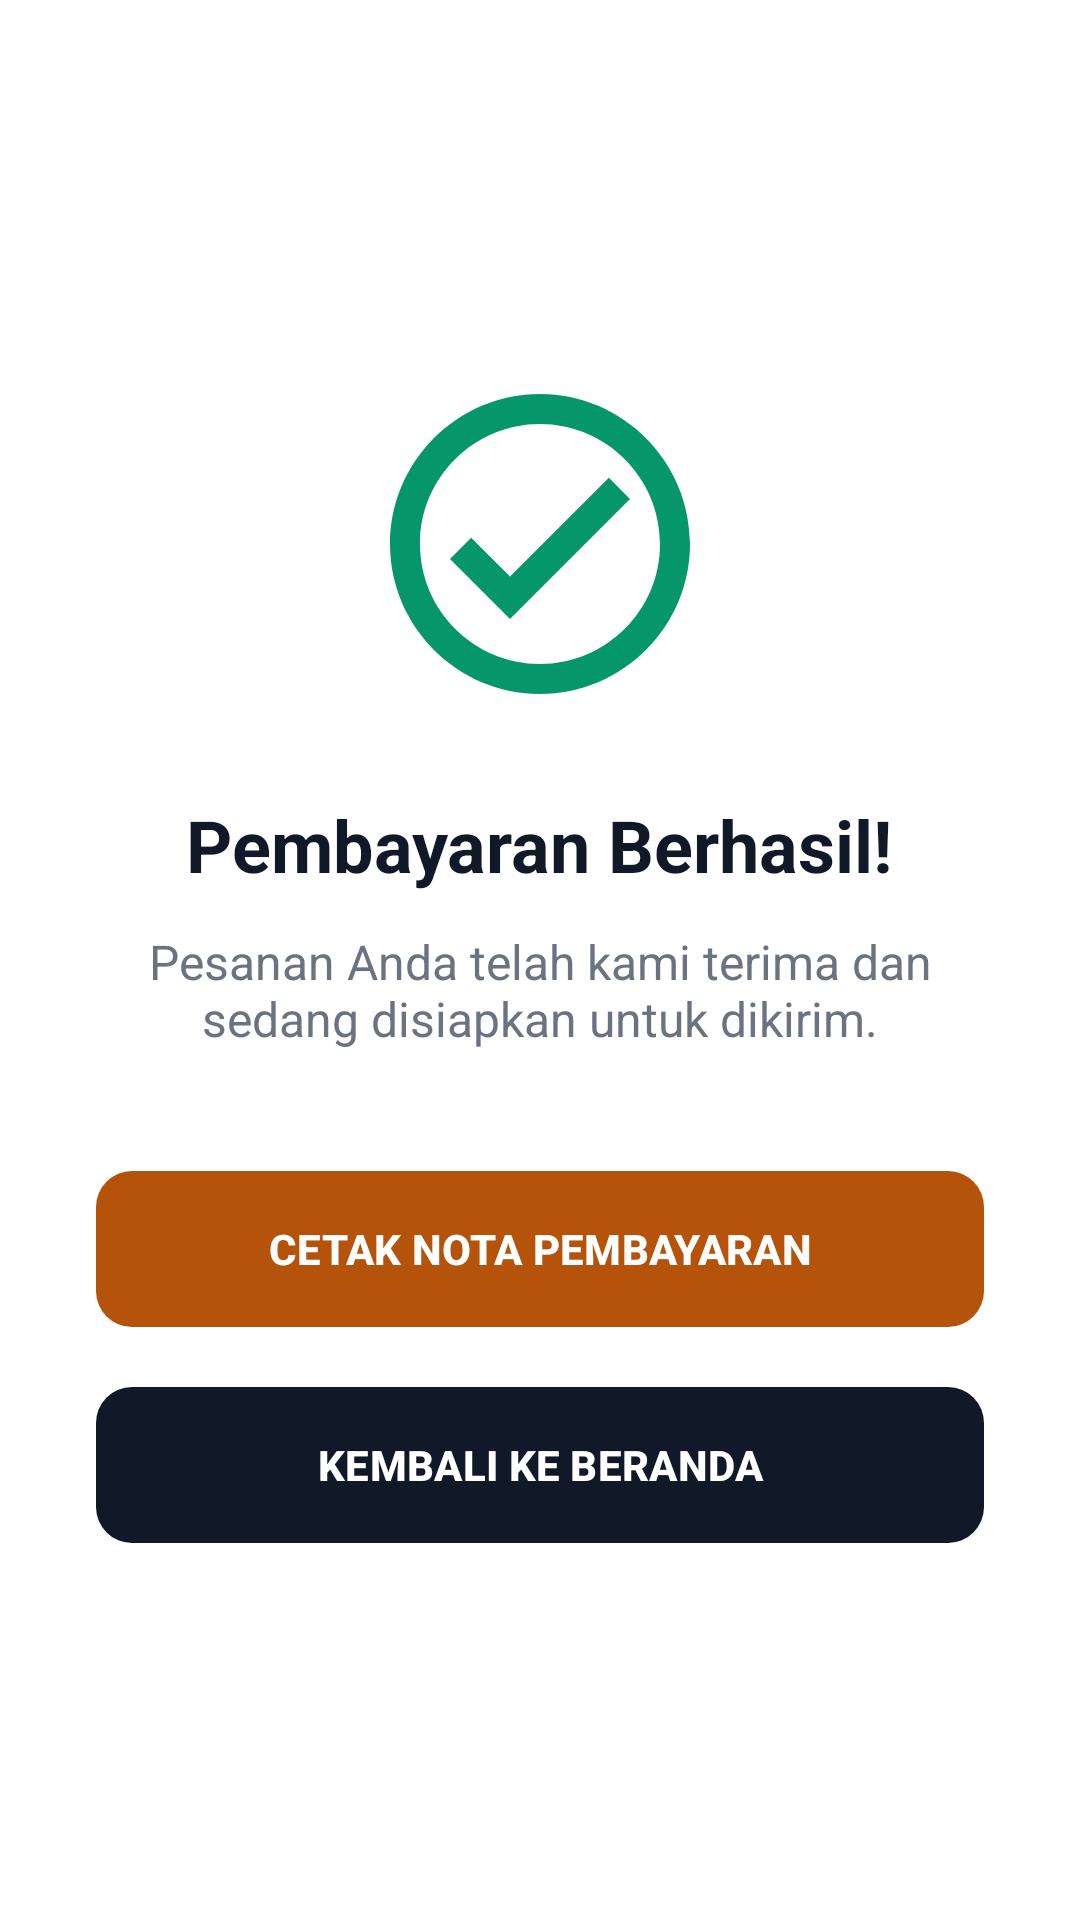

Named icons in this screenshot (1080 × 1920) and their bounding boxes, (x1, y1, x2, y2):
check circle: (390, 394, 690, 694)
